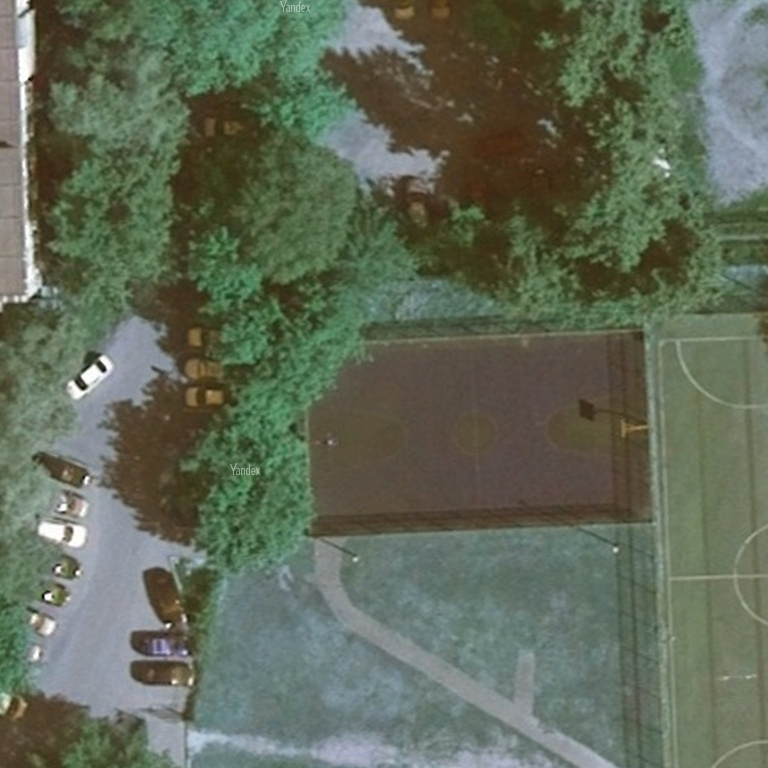basket_court: (286, 304, 664, 545)
